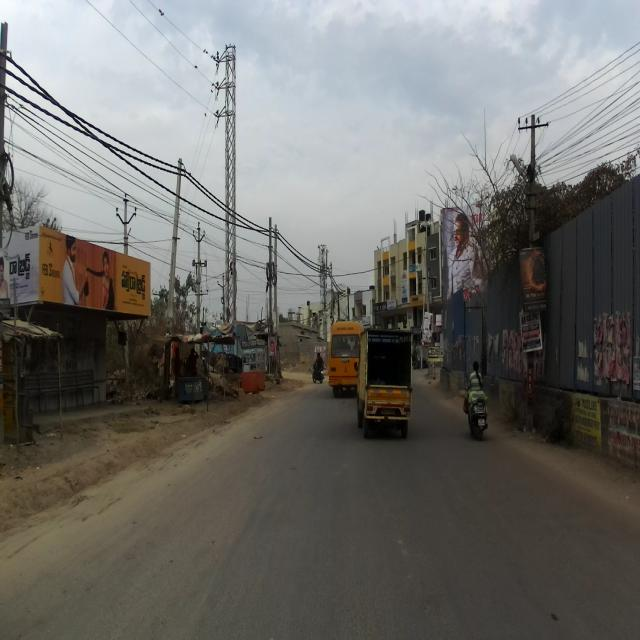car ahead at: (345, 313, 416, 444)
electric pole ahead at: (514, 96, 550, 442)
